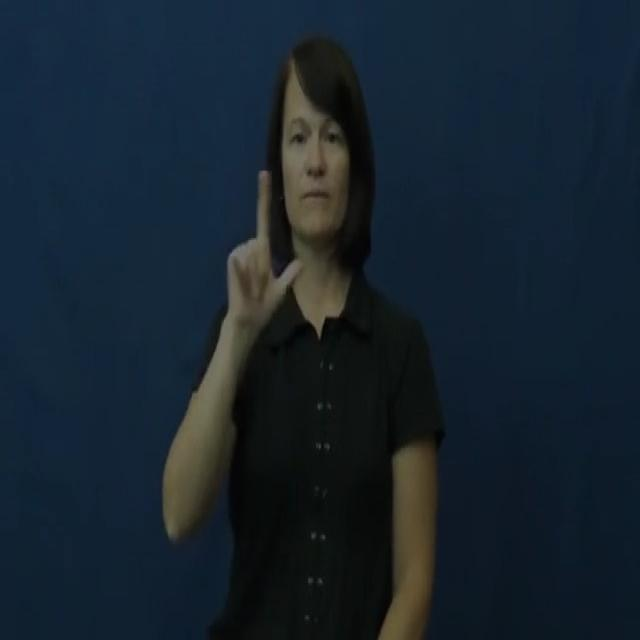refill: (218, 174, 304, 323)
